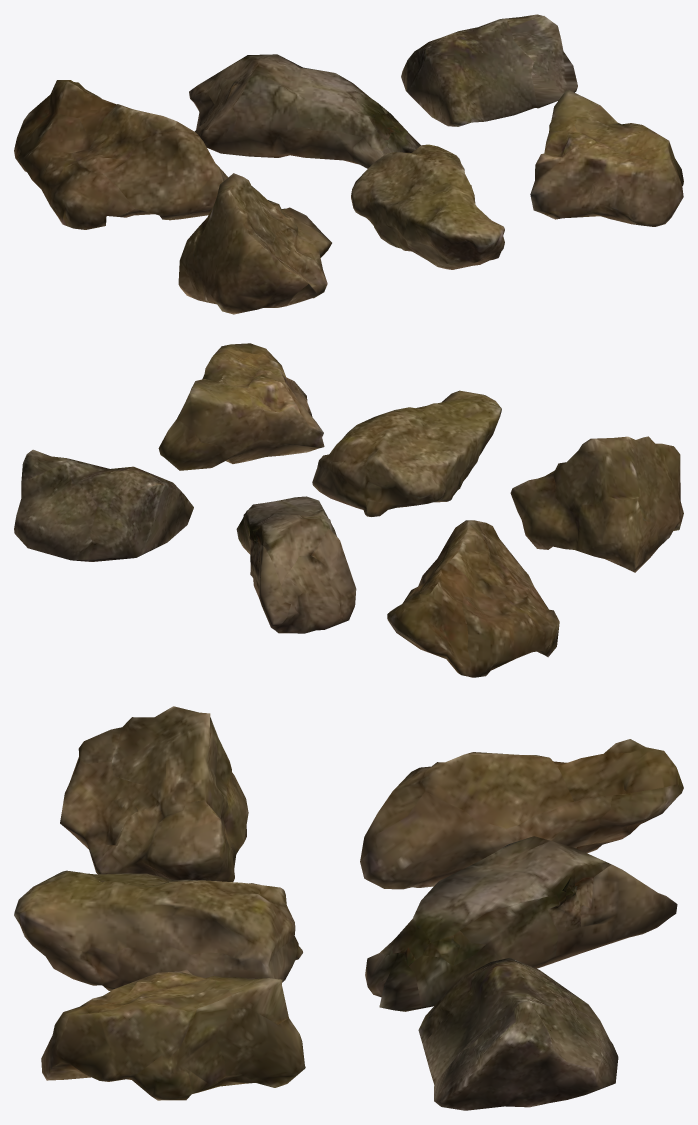
The model's file is rocks.glb.
3 renders of one model, top to bottom at view 1: azimuth 30°, elevation 25°; view 2: azimuth 150°, elevation 25°; view 3: azimuth 270°, elevation 25°, orthographic. The views are drawn at different scales.
Parts seen in each view (by area): view 1: rock_moss_set_01_rock01, rock_moss_set_01_rock02, rock_moss_set_01_rock06, rock_moss_set_01_rock04, rock_moss_set_01_rock03, rock_moss_set_01_rock05; view 2: rock_moss_set_01_rock04, rock_moss_set_01_rock01, rock_moss_set_01_rock05, rock_moss_set_01_rock03, rock_moss_set_01_rock06, rock_moss_set_01_rock02; view 3: rock_moss_set_01_rock01, rock_moss_set_01_rock02, rock_moss_set_01_rock05, rock_moss_set_01_rock06, rock_moss_set_01_rock04, rock_moss_set_01_rock03.
Boxes of the visible parts, left/top/right/bottom form: rock_moss_set_01_rock01: left=14, top=80, right=227, bottom=229; rock_moss_set_01_rock02: left=189, top=54, right=420, bottom=168; rock_moss_set_01_rock06: left=530, top=90, right=683, bottom=226; rock_moss_set_01_rock04: left=178, top=173, right=331, bottom=314; rock_moss_set_01_rock03: left=401, top=14, right=577, bottom=126; rock_moss_set_01_rock05: left=351, top=144, right=504, bottom=269; rock_moss_set_01_rock04: left=510, top=436, right=683, bottom=572; rock_moss_set_01_rock01: left=387, top=520, right=559, bottom=677; rock_moss_set_01_rock05: left=312, top=390, right=501, bottom=516; rock_moss_set_01_rock03: left=14, top=449, right=193, bottom=561; rock_moss_set_01_rock06: left=158, top=343, right=324, bottom=470; rock_moss_set_01_rock02: left=236, top=496, right=356, bottom=633; rock_moss_set_01_rock01: left=360, top=739, right=683, bottom=889; rock_moss_set_01_rock02: left=365, top=836, right=677, bottom=1011; rock_moss_set_01_rock05: left=14, top=870, right=302, bottom=990; rock_moss_set_01_rock06: left=41, top=969, right=305, bottom=1100; rock_moss_set_01_rock04: left=60, top=706, right=248, bottom=881; rock_moss_set_01_rock03: left=418, top=958, right=618, bottom=1110.
Size of the model in its own units: 8 by 1.76 by 6.94.
Materials: 1 (1 with a texture image).
